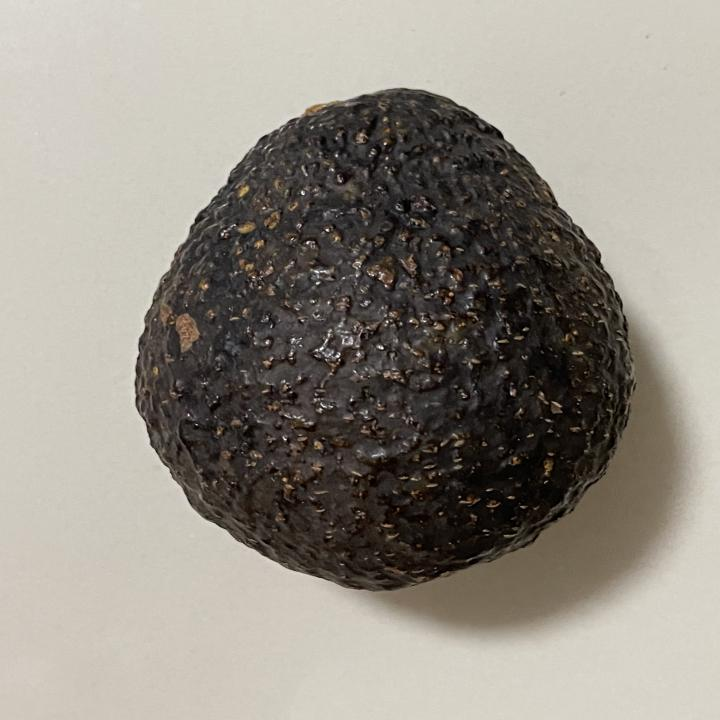Level3: (119, 78, 649, 602)
